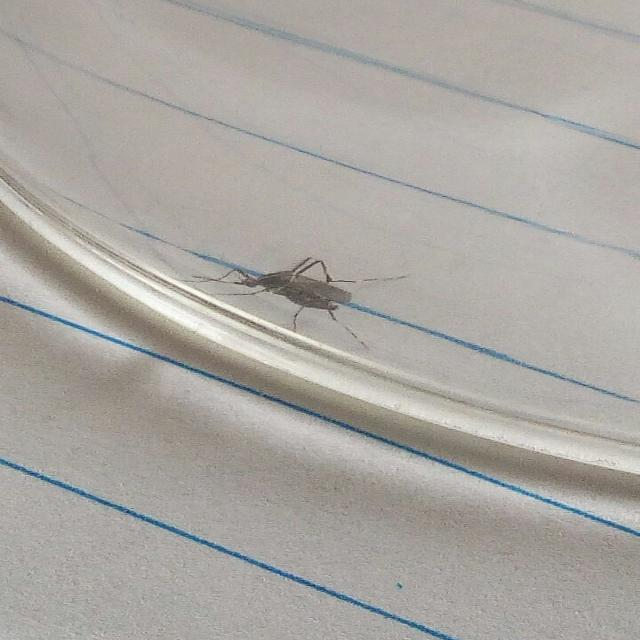albopictus: (138, 226, 418, 348)
